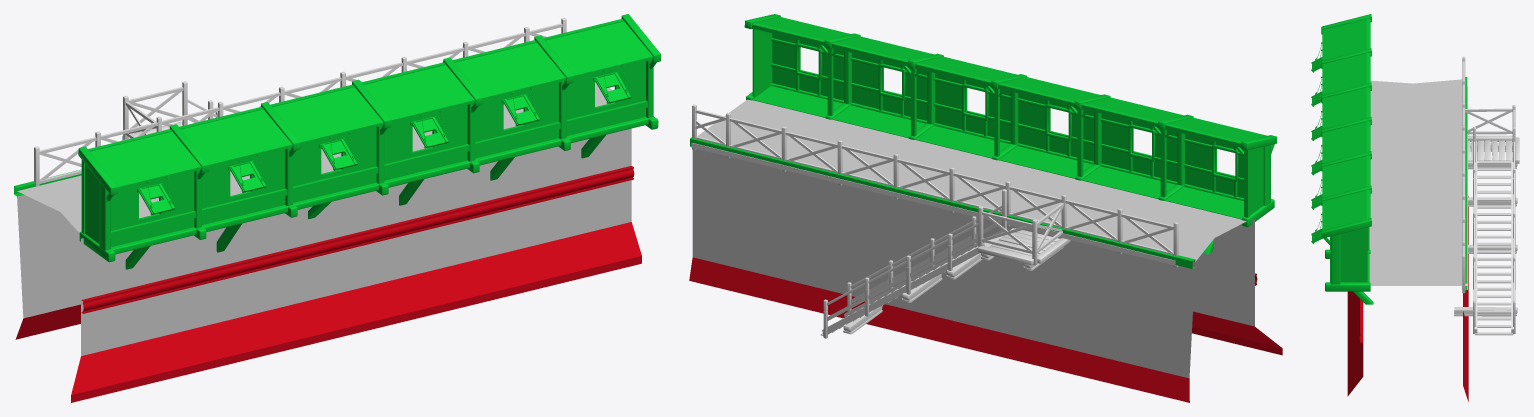
File: Wall_4v2fbx.fbx
The picture shows the model from 3 angles, left to right: view 1: azimuth 30°, elevation 25°; view 2: azimuth 150°, elevation 25°; view 3: azimuth 270°, elevation 25°; orthographic projection. The views are drawn at different scales.
Parts seen in each view (by area): view 1: Group_4.015, Group_4.028, Group_3.009, Group_3.005, Group_4.023, Group_4.024, Group_4.016, Group_4.027, Group_4.025, Group_4.026; view 2: Group_4.015, Group_4.028, Group_3.009, Group_3.005, Group_3.010; view 3: Group_4.015, Group_4.028, Group_3.005, Group_3.009.
Part boxes in pixels (x1=…): Group_4.015: x1=14, y1=82, x2=641, y2=402; Group_4.028: x1=78, y1=14, x2=660, y2=269; Group_3.009: x1=34, y1=18, x2=566, y2=186; Group_3.005: x1=121, y1=81, x2=217, y2=140; Group_4.023: x1=503, y1=94, x2=539, y2=126; Group_4.024: x1=412, y1=117, x2=448, y2=148; Group_4.016: x1=595, y1=72, x2=630, y2=103; Group_4.027: x1=138, y1=183, x2=174, y2=215; Group_4.025: x1=321, y1=139, x2=357, y2=170; Group_4.026: x1=230, y1=161, x2=266, y2=192; Group_4.015: x1=689, y1=99, x2=1282, y2=402; Group_4.028: x1=744, y1=14, x2=1276, y2=254; Group_3.009: x1=691, y1=104, x2=1178, y2=267; Group_3.005: x1=820, y1=189, x2=1070, y2=338; Group_3.010: x1=1007, y1=186, x2=1063, y2=238; Group_4.015: x1=1347, y1=77, x2=1468, y2=401; Group_4.028: x1=1321, y1=14, x2=1373, y2=304; Group_3.005: x1=1454, y1=105, x2=1519, y2=335; Group_3.009: x1=1461, y1=56, x2=1467, y2=293.
Bounding box in the file's own units: 1937 × 769 × 793.
